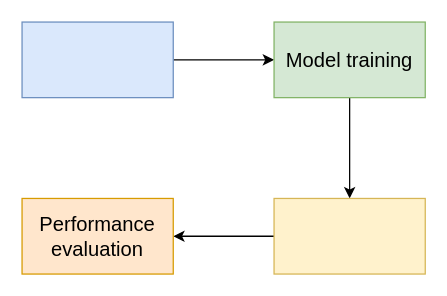
Image size: 447x296. Some labels were removed from this diagram. Each missing label, with the centre of its shape:
Data preprocessing: the point at 97,59
Forecast generation: the point at 349,235
